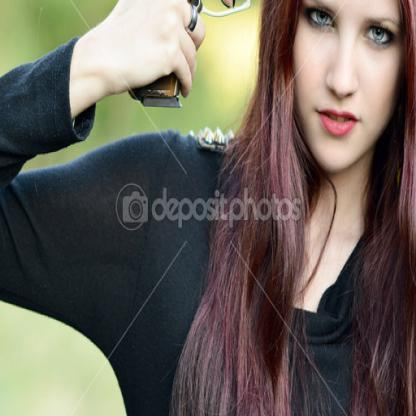gun: (124, 0, 302, 112)
